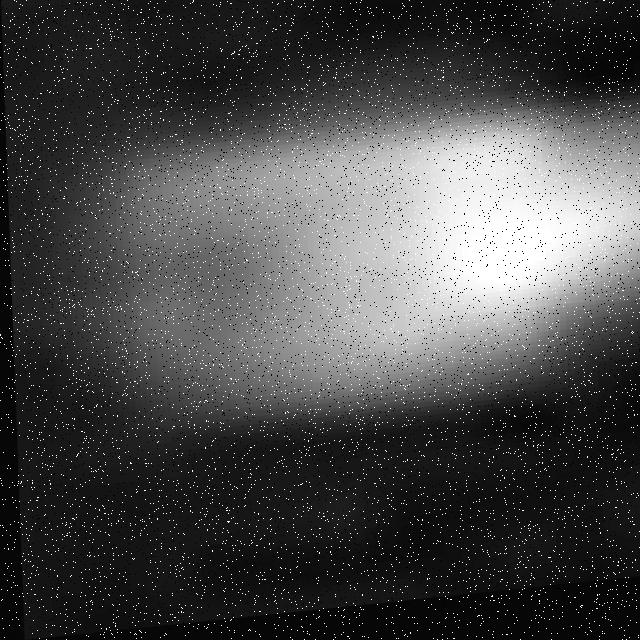person: (69, 60, 640, 445)
